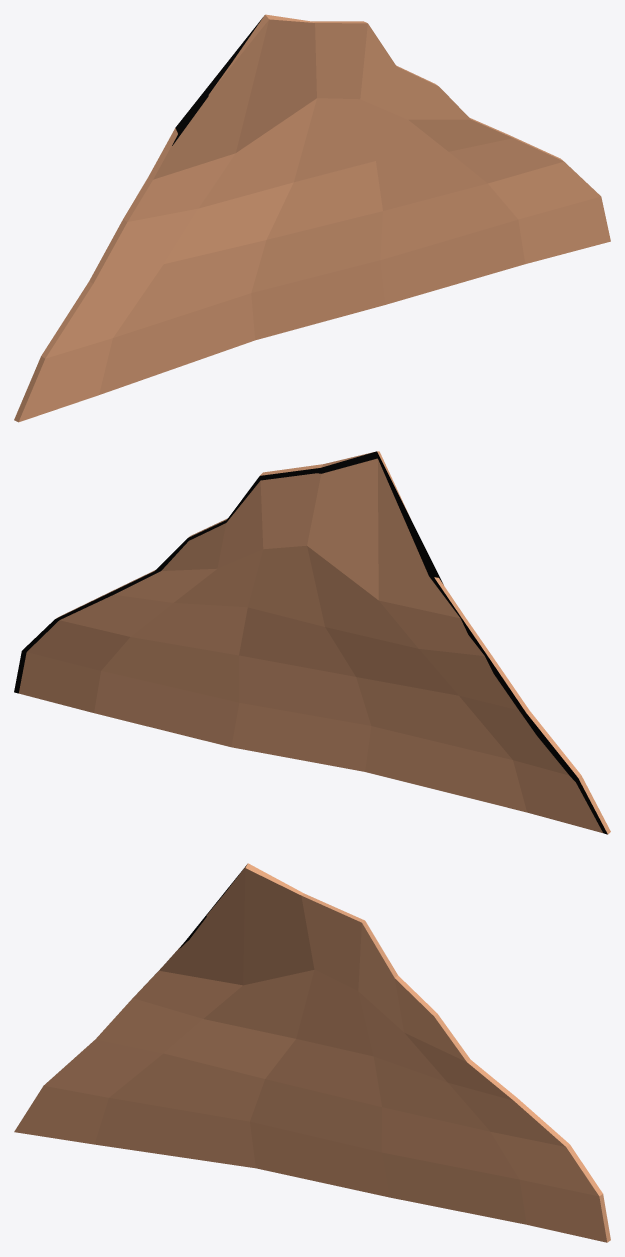
Rendered from CardboardMountain01.fbx.
The picture shows the model from 3 angles, top to bottom: view 1: azimuth 30°, elevation 25°; view 2: azimuth 150°, elevation 25°; view 3: azimuth 330°, elevation 25°; orthographic projection. The views are drawn at different scales.
Parts seen in each view (by area): view 1: Cube.004; view 2: Cube.004; view 3: Cube.004.
Boxes of the visible parts, x1=… form: Cube.004: x1=14, y1=14, x2=610, y2=422; Cube.004: x1=14, y1=451, x2=610, y2=834; Cube.004: x1=14, y1=863, x2=610, y2=1242.
Bounding box in the file's own units: 4834 × 2609 × 374.
